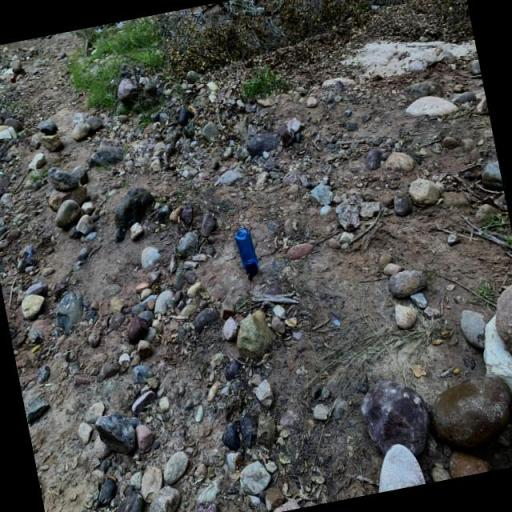bottle: (234, 227, 261, 281)
